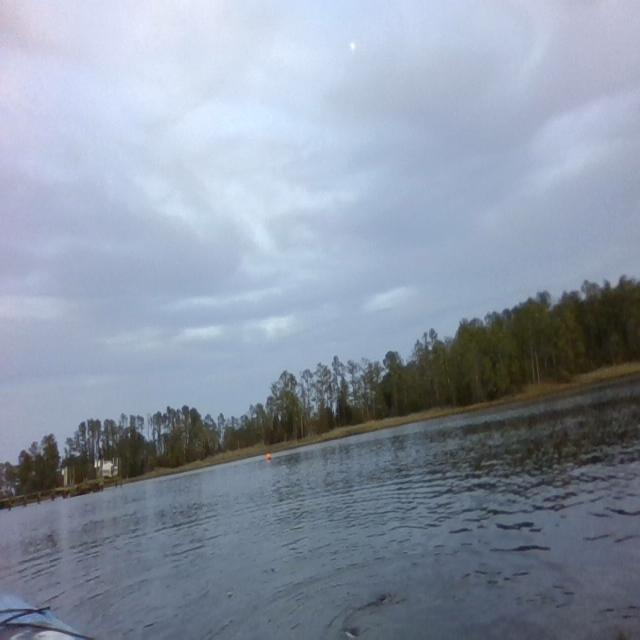Buoy: (265, 450, 273, 462)
